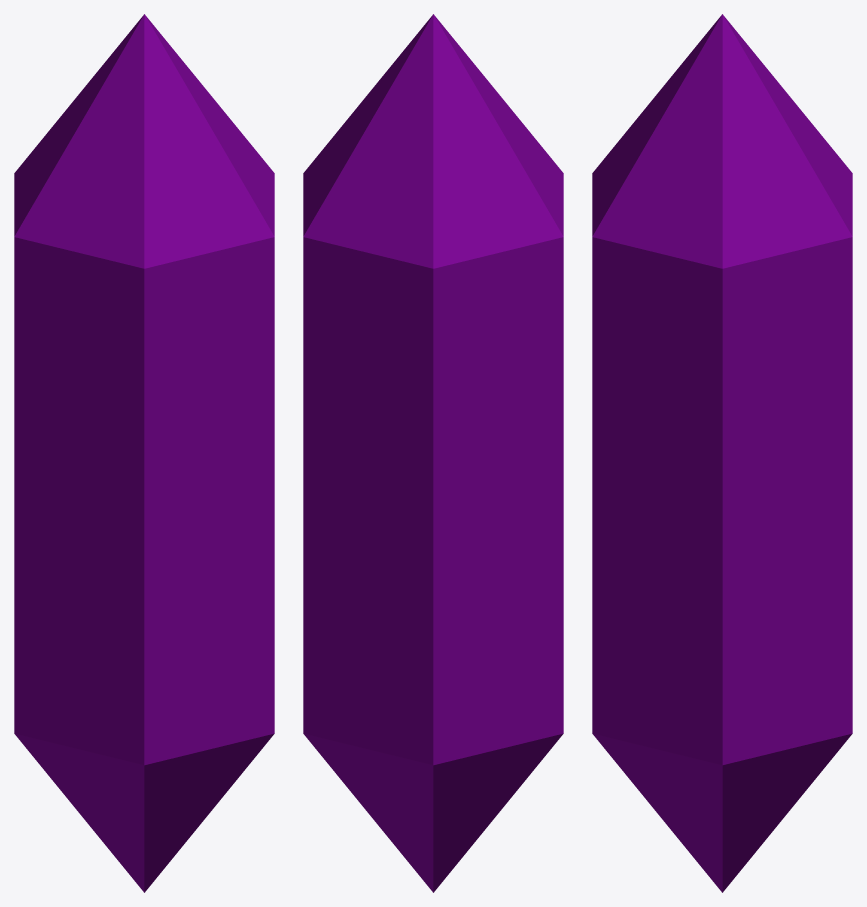
File: Amethyst.fbx
3 renders of one model, left to right at view 1: azimuth 30°, elevation 25°; view 2: azimuth 150°, elevation 25°; view 3: azimuth 270°, elevation 25°, orthographic.
Visible parts, largest first — view 1: Amethyst; view 2: Amethyst; view 3: Amethyst.
Part boxes in pixels (x1,y1,x2,y2): Amethyst: (14,14,274,892); Amethyst: (303,14,563,892); Amethyst: (592,14,852,892).
Bounding box in the file's own units: 0.536 × 1.73 × 0.4642.
